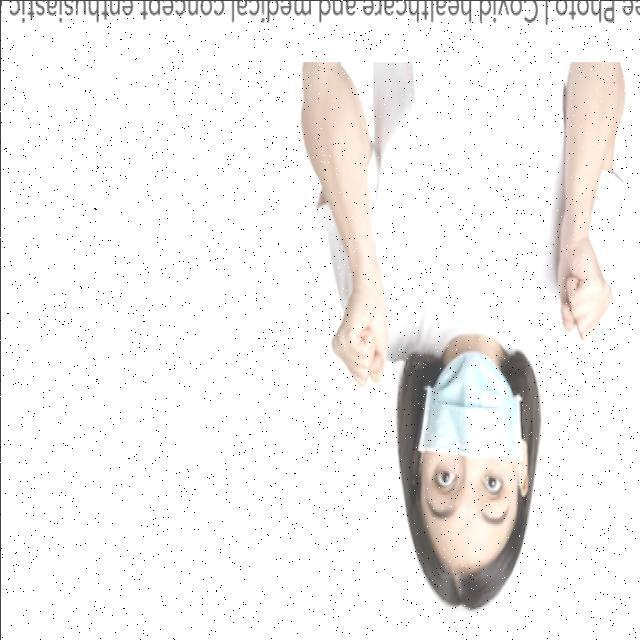face_mask: (413, 349, 529, 569)
